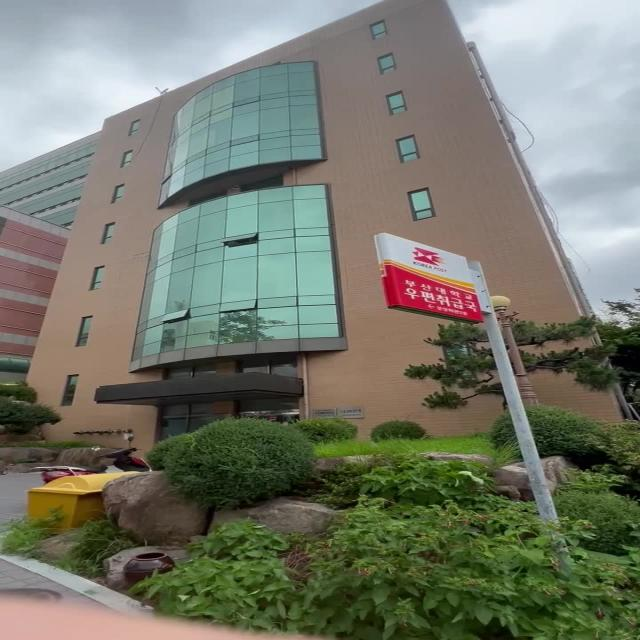building: (74, 73, 380, 423)
